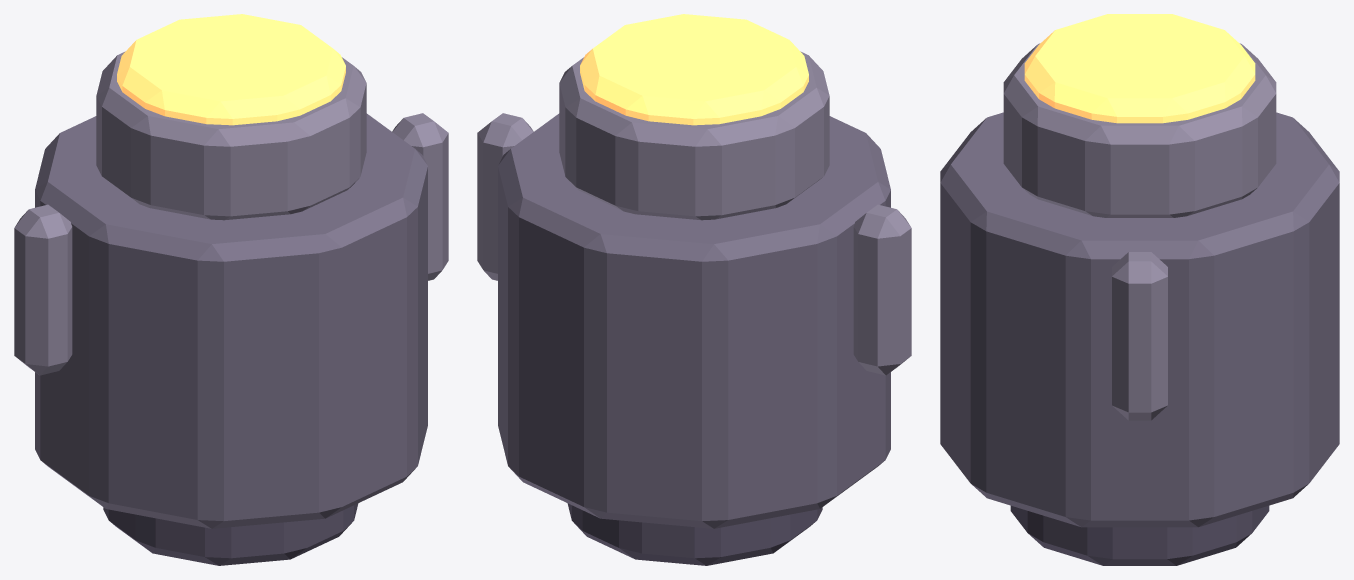
File: ember_urn.glb
3 renders of one model, left to right at view 1: azimuth 30°, elevation 25°; view 2: azimuth 150°, elevation 25°; view 3: azimuth 270°, elevation 25°, orthographic.
Visible parts, largest first — view 1: ember_urn.001; view 2: ember_urn.001; view 3: ember_urn.001.
Boxes of the visible parts, <box> form: ember_urn.001: <box>14,14,448,565</box>; ember_urn.001: <box>477,14,911,565</box>; ember_urn.001: <box>940,14,1339,565</box>.
Size of the model in its own units: 1.4 by 1.45 by 1.14.
